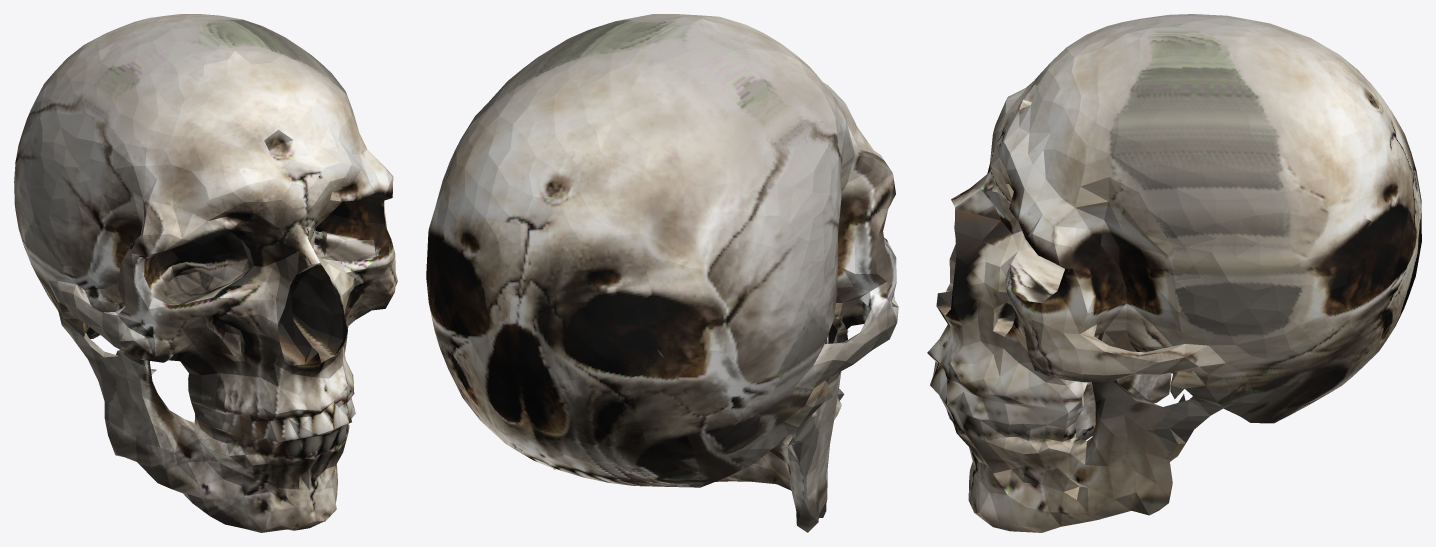
Rendered from h_skull.glb.
The picture shows the model from 3 angles, left to right: view 1: azimuth 30°, elevation 25°; view 2: azimuth 150°, elevation 25°; view 3: azimuth 270°, elevation 25°; orthographic projection. The views are drawn at different scales.
Visible parts, largest first — view 1: geometry_0; view 2: geometry_0; view 3: geometry_0.
Boxes of the visible parts, bbox=[...] form: geometry_0: bbox=[14, 14, 397, 532]; geometry_0: bbox=[426, 14, 898, 532]; geometry_0: bbox=[927, 14, 1421, 532].
Bounding box in the file's own units: 0.1855 × 0.26 × 0.2439.
Materials: 1 (1 with a texture image).
